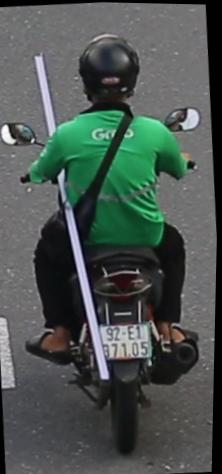LP: (100, 318, 156, 364)
helmet: (73, 26, 146, 118)
